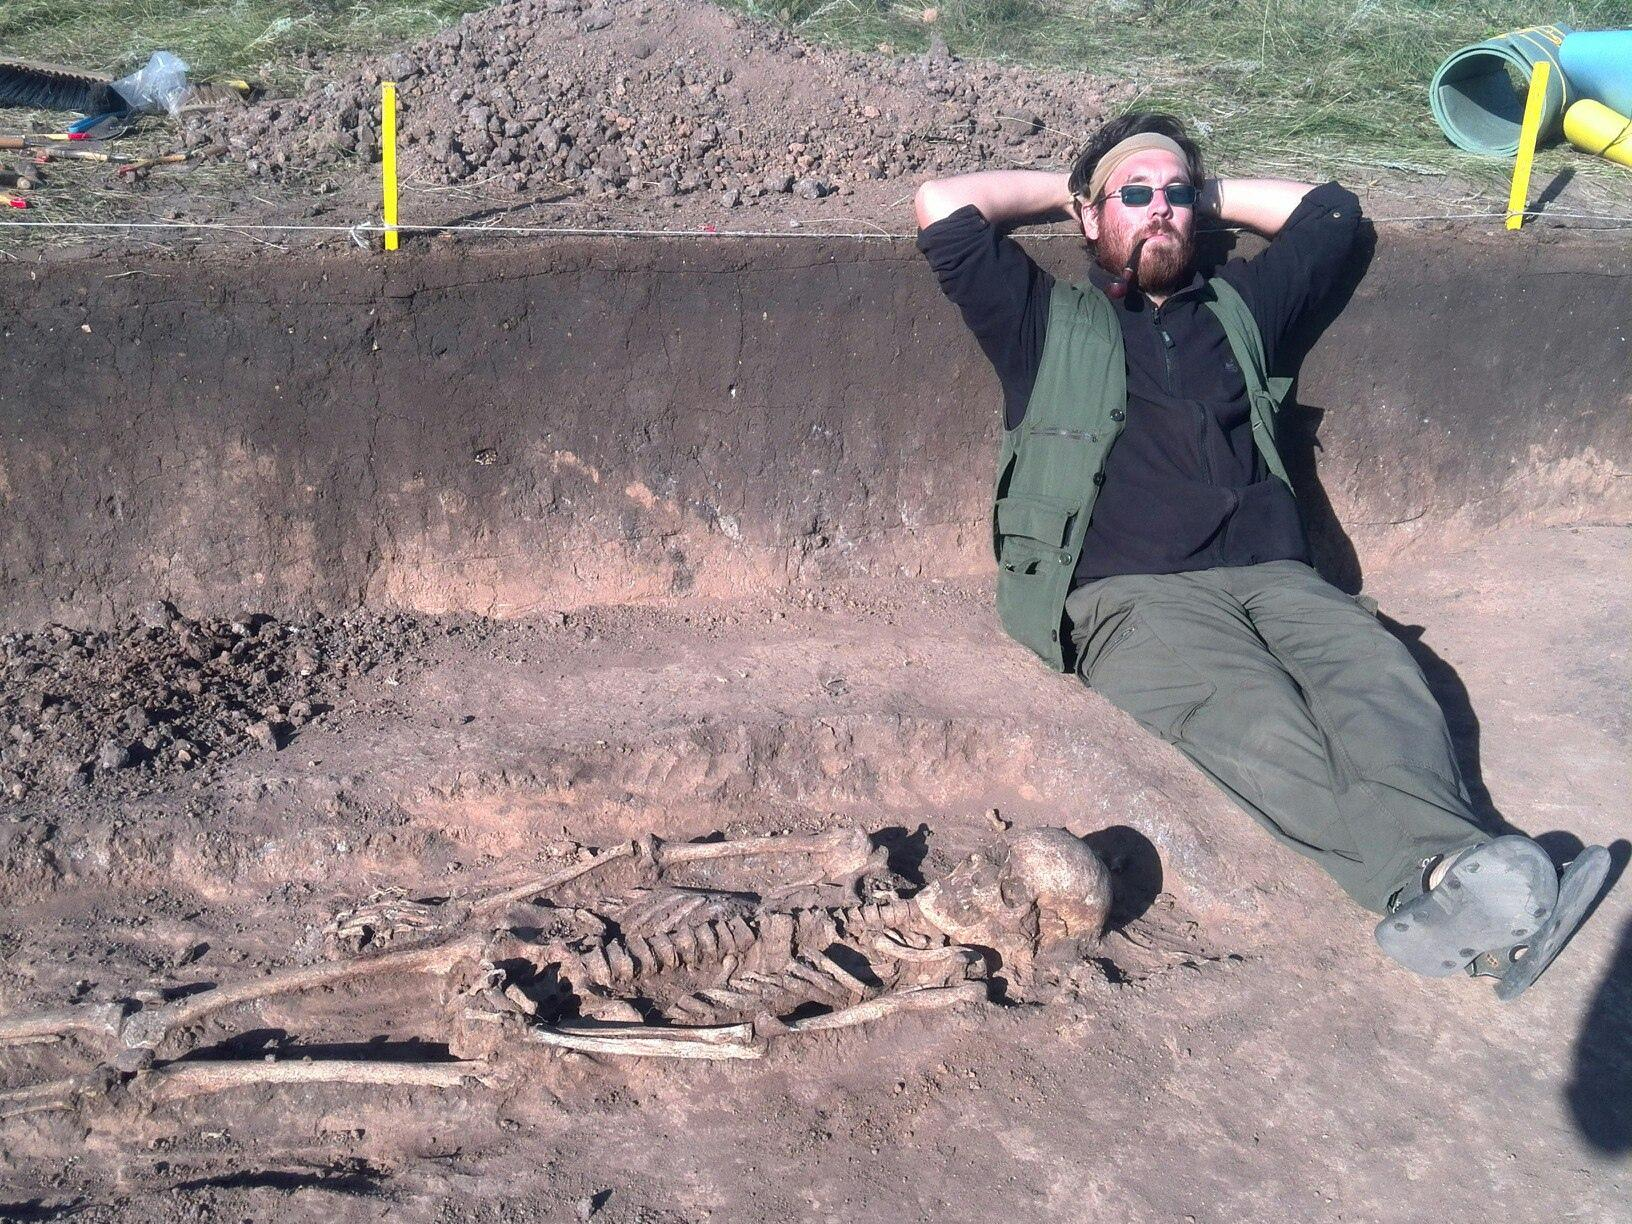trubka: (1108, 238, 1149, 298)
